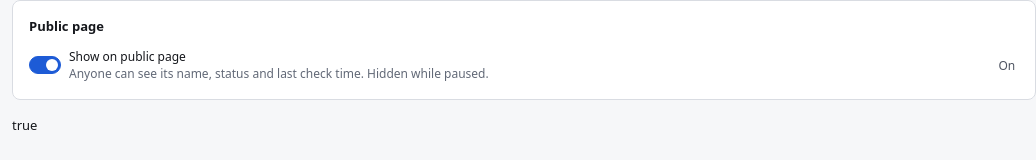
it: PublicPageGroup (FR-27, FR-68) › follows the form’s value true and toggles it
This screenshot has width=1036, height=160.
Click the switch named "Show on public page" at (45, 65), box [29,56,61,74]
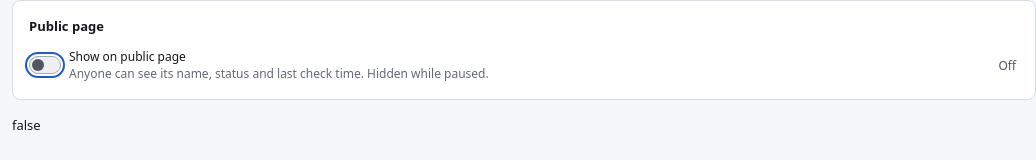
Expected: the text "false" is shown, [12,116,41,134]
